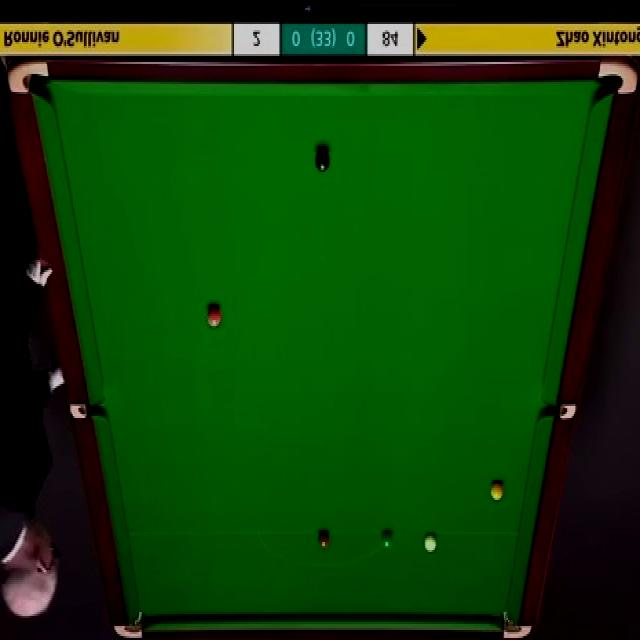pocket: (597, 57, 637, 98), (6, 62, 51, 98), (110, 606, 146, 640), (499, 608, 532, 640), (540, 403, 576, 422), (66, 403, 102, 420)
